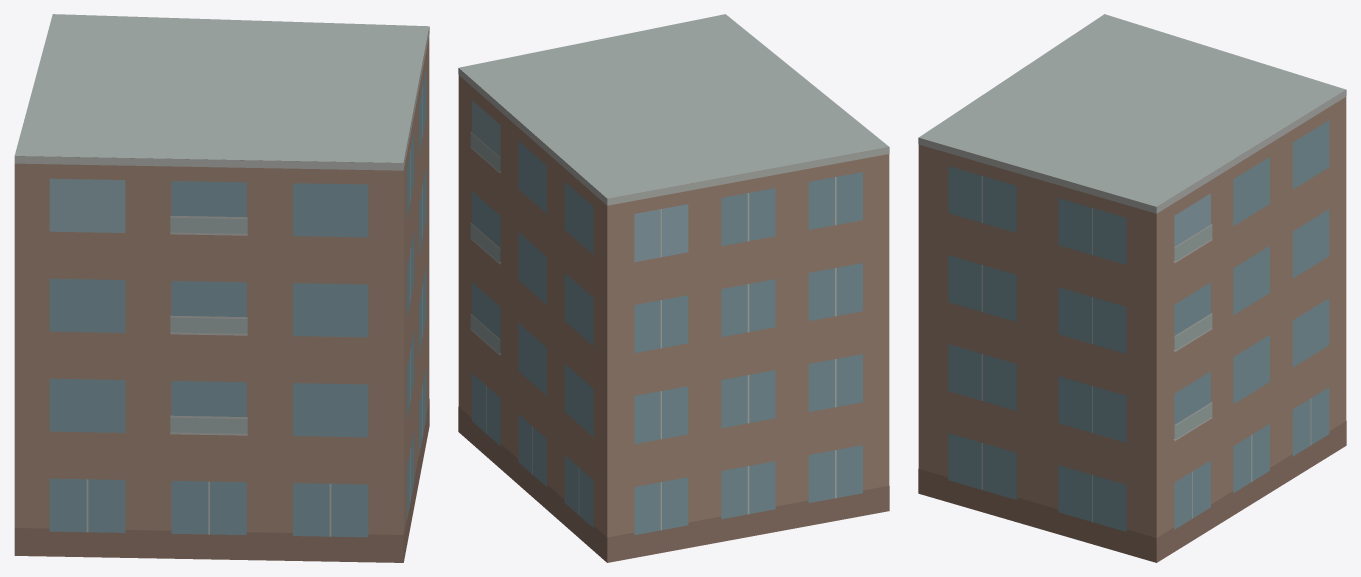
File: survey-upis-32726303.glb
3 renders of one model, left to right at view 1: azimuth 30°, elevation 25°; view 2: azimuth 150°, elevation 25°; view 3: azimuth 270°, elevation 25°, orthographic. The views are drawn at different scales.
Parts seen in each view (by area): view 1: survey-upis-32726303.tmp; view 2: survey-upis-32726303.tmp; view 3: survey-upis-32726303.tmp.
Boxes of the visible parts, x1,y1,x2,y2 form: survey-upis-32726303.tmp: (14,14,429,562); survey-upis-32726303.tmp: (458,14,889,562); survey-upis-32726303.tmp: (918,14,1346,562).
Bounding box in the file's own units: 14.77 × 12.7 × 13.85.
